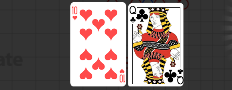10H: (118, 67, 125, 83)
